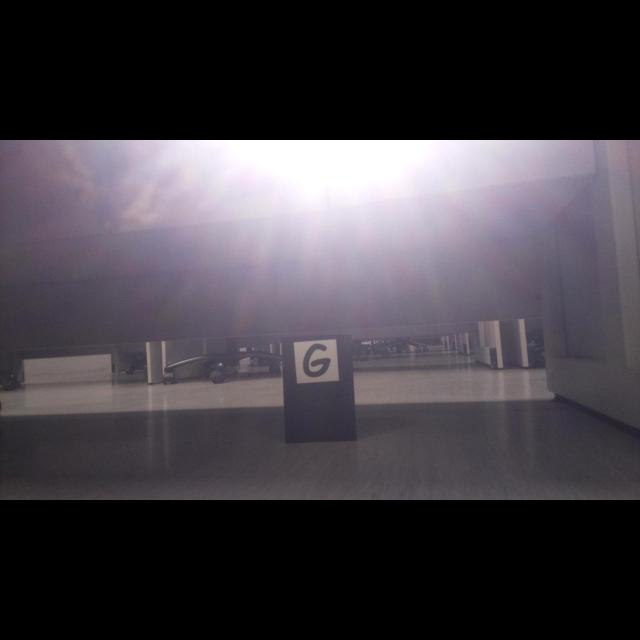G: (303, 344, 330, 377)
